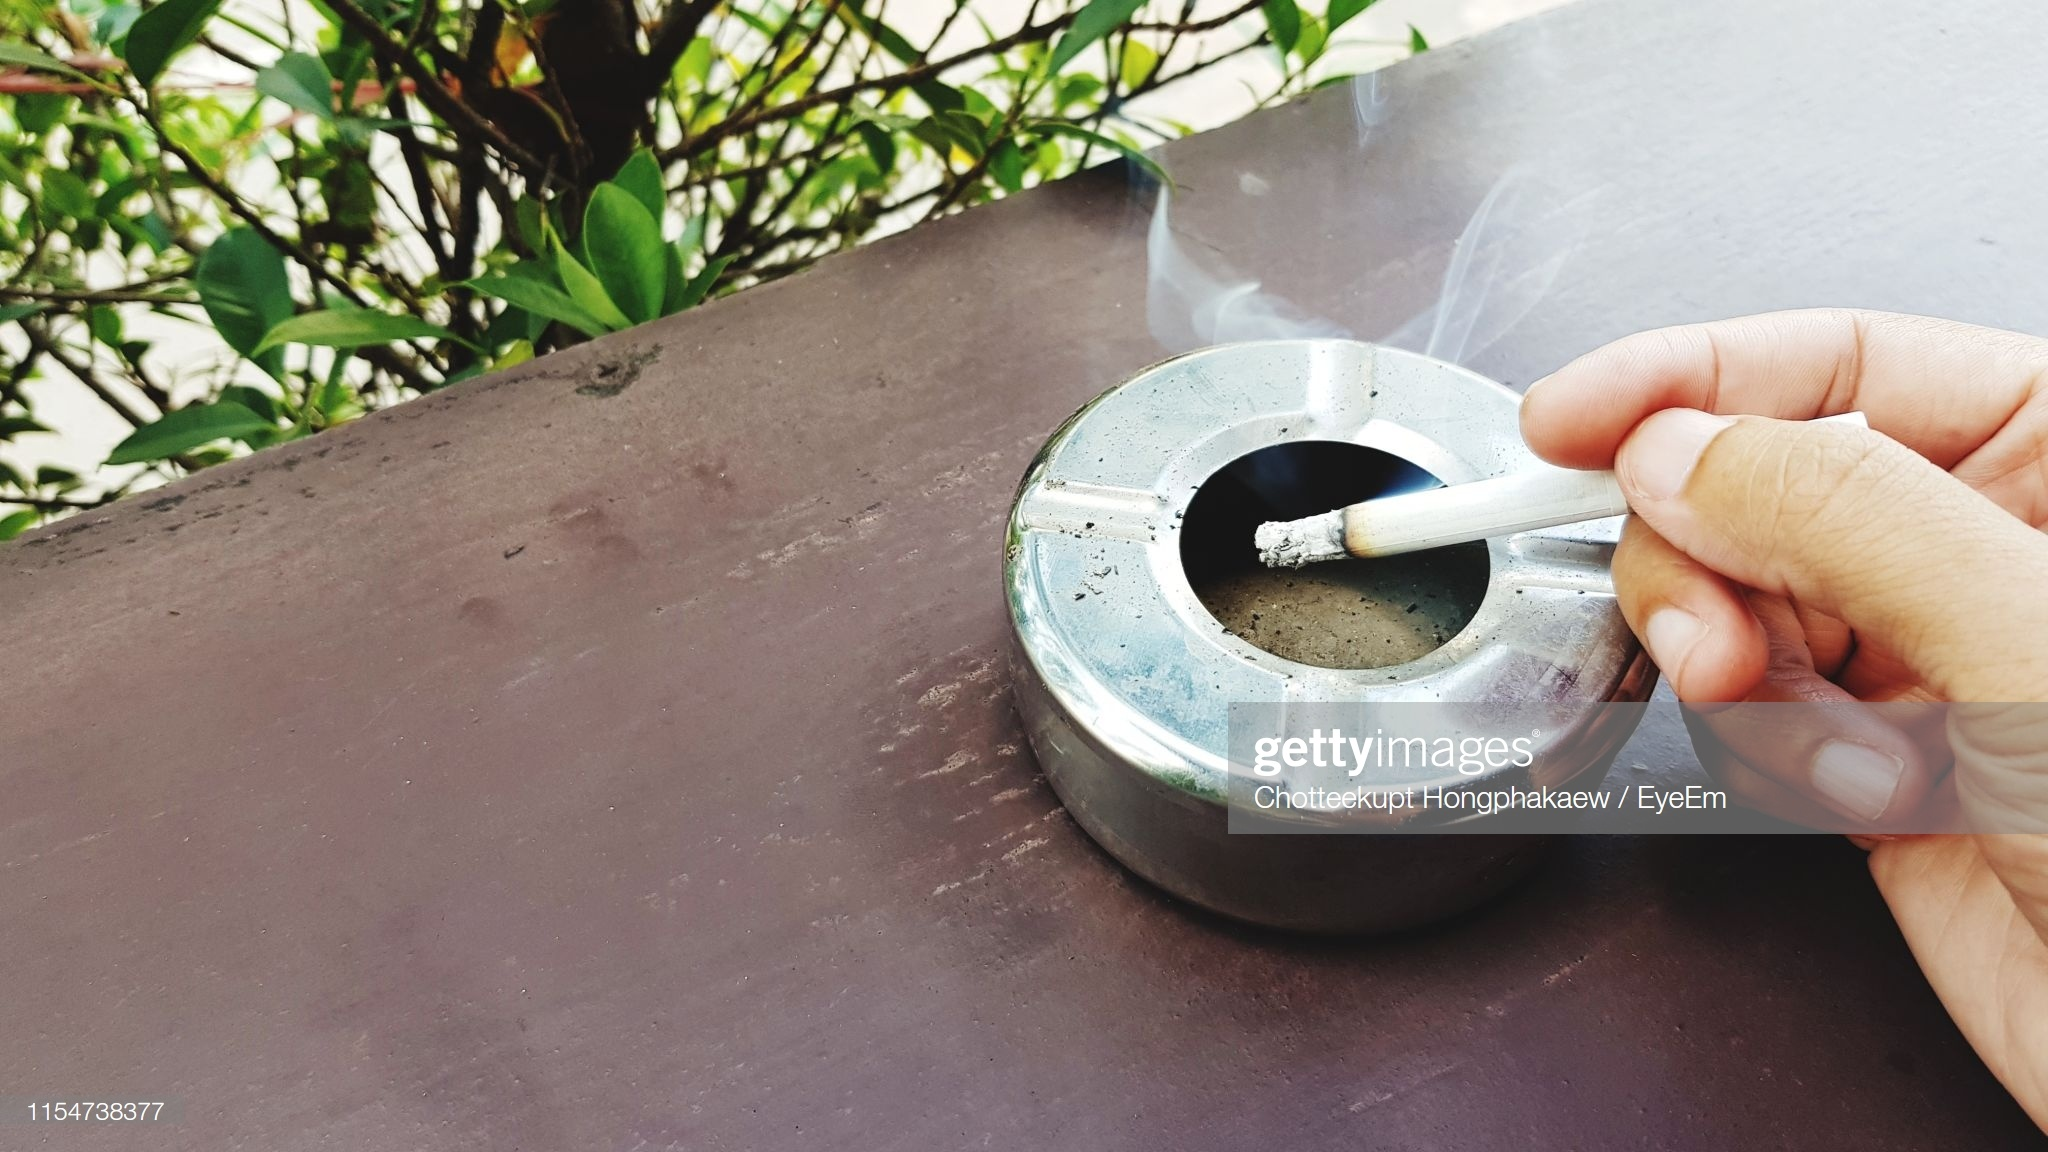sigaretta: (1245, 392, 1896, 568)
